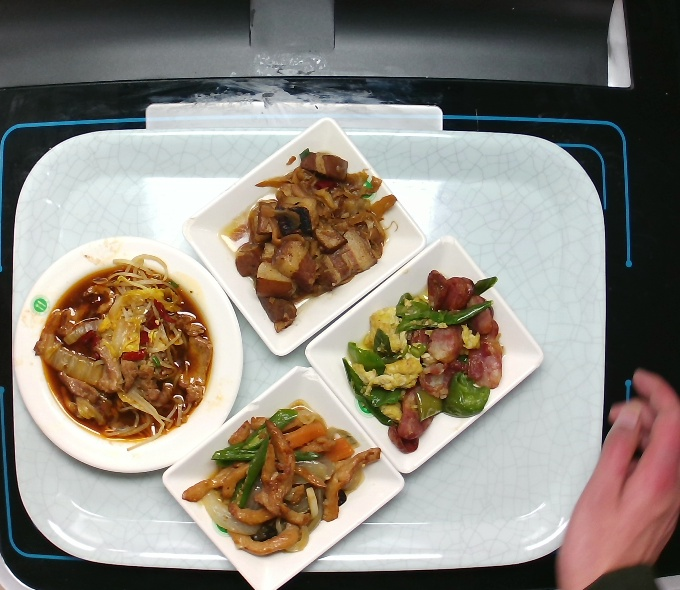wcq-HongShaoRou: (228, 146, 394, 335)
wcq-QingJiaoJiDanChaoDaChang: (337, 265, 506, 456)
wcq-QingJiaoRouSi: (176, 397, 384, 558)
wcq-ShuiZhuRouPian: (31, 252, 219, 455)
